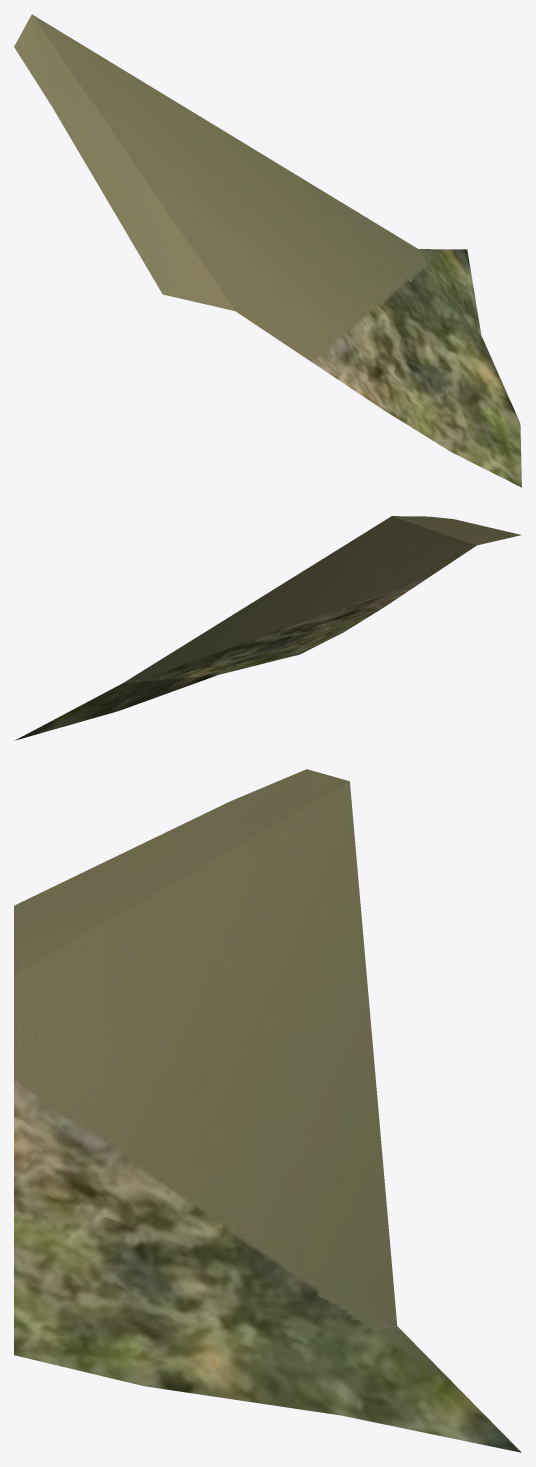
3 views of the same model, one above another, from view 1: azimuth 30°, elevation 25°; view 2: azimuth 150°, elevation 25°; view 3: azimuth 270°, elevation 25° (orthographic). The views are drawn at different scales.
Bounding box in the file's own units: 5.24 × 3.8 × 4.16.
2 materials, 2 textured.
